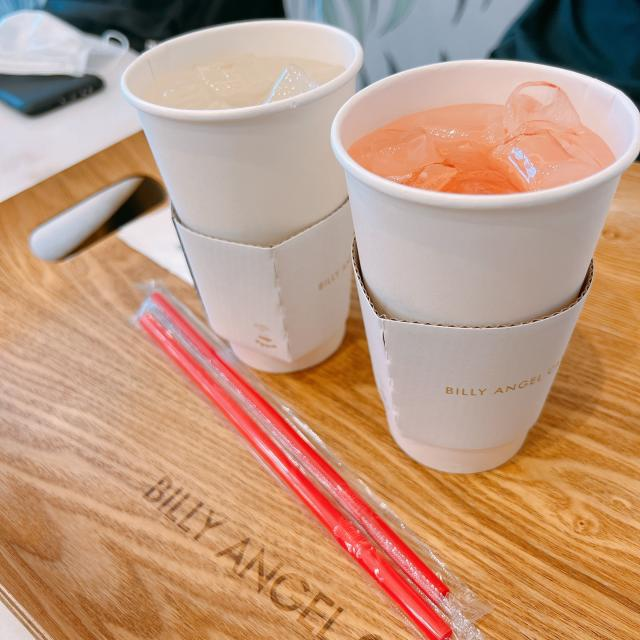Bowl: (330, 58, 614, 468), (128, 18, 364, 380)
